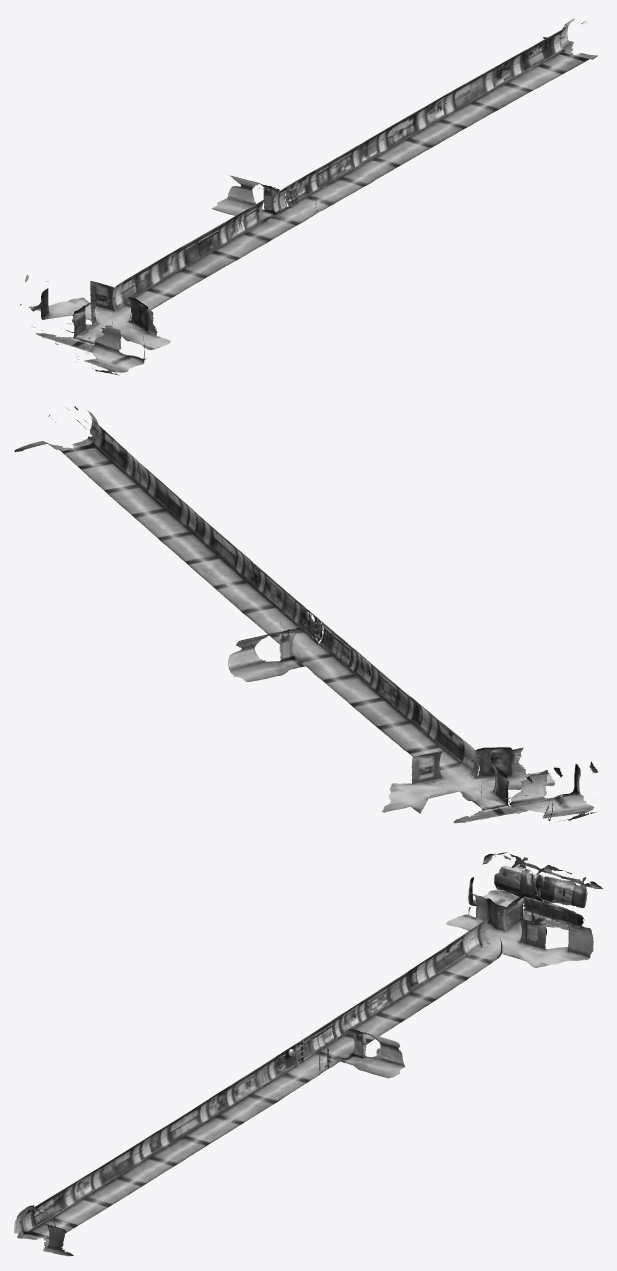
3 views of the same model, one above another, from view 1: azimuth 90°, elevation 25°; view 2: azimuth 150°, elevation 25°; view 3: azimuth 270°, elevation 25° (orthographic). The views are drawn at different scales.
Parts seen in each view (by area): view 1: mesh; view 2: mesh; view 3: mesh.
Part boxes in pixels (x1=…): mesh: x1=20, y1=18, x2=597, y2=375; mesh: x1=14, y1=406, x2=597, y2=823; mesh: x1=14, y1=852, x2=602, y2=1256.
Bounding box in the file's own units: 63.19 × 4.64 × 44.3.
Materials: 1 (1 with a texture image).
